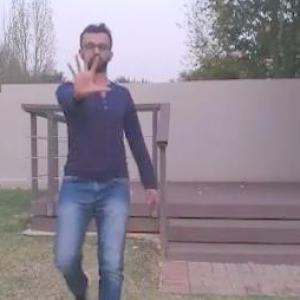follow_hand: (65, 51, 112, 98)
